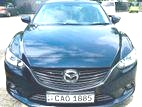car: (3, 0, 137, 107)
